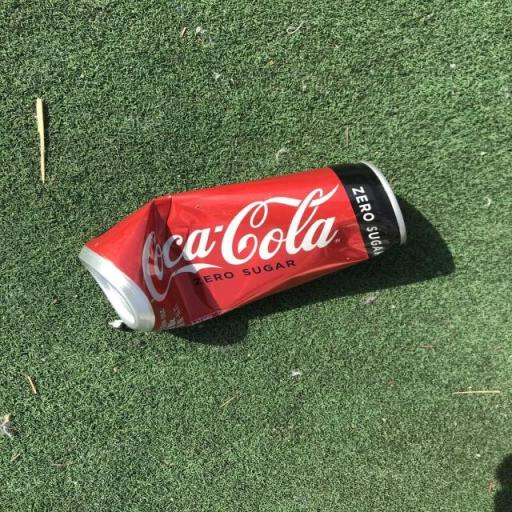metal: (50, 149, 458, 357)
